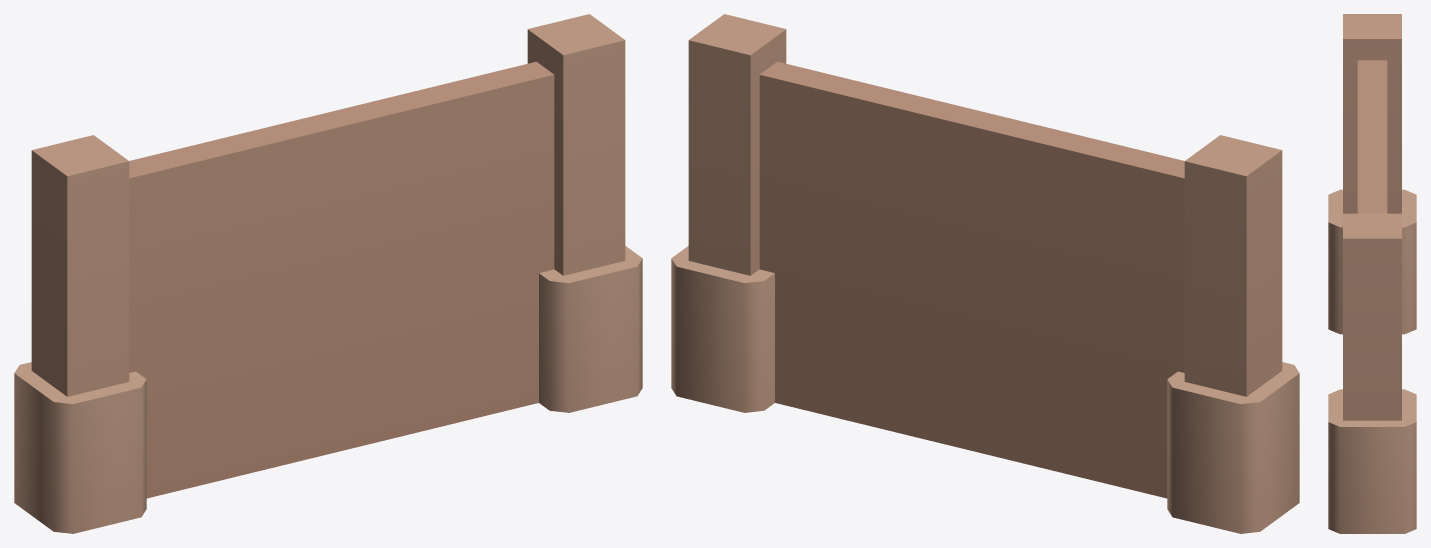
File: fence.glb
The picture shows the model from 3 angles, left to right: view 1: azimuth 30°, elevation 25°; view 2: azimuth 150°, elevation 25°; view 3: azimuth 270°, elevation 25°; orthographic projection. The views are drawn at different scales.
Visible parts, largest first — view 1: fence; view 2: fence; view 3: fence.
Part boxes in pixels (box(x1,y1,x2,y2)): fence: box(14, 14, 642, 533); fence: box(671, 14, 1299, 533); fence: box(1328, 14, 1416, 533).
Size of the model in its own units: 0.475 by 0.27 by 0.075.
